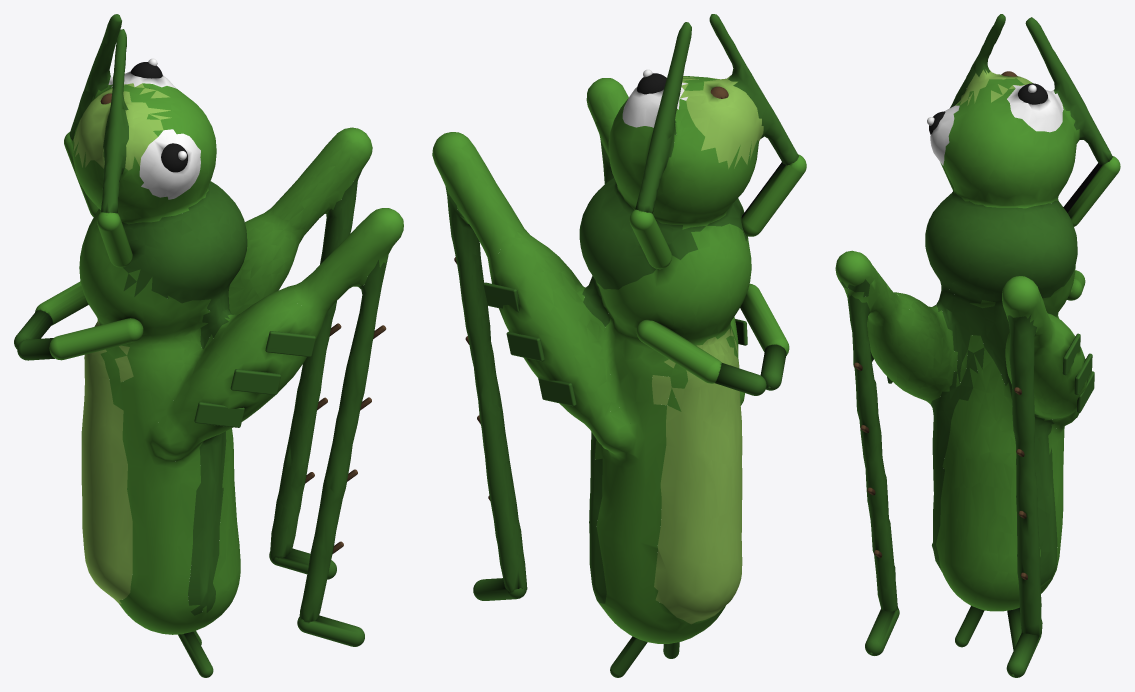
The model's file is var-ska-jag-byta.glb.
3 renders of one model, left to right at view 1: azimuth 30°, elevation 25°; view 2: azimuth 150°, elevation 25°; view 3: azimuth 270°, elevation 25°, orthographic. The views are drawn at different scales.
Visible parts, largest first — view 1: grilo__r0, grilo__r25, grilo__r28, grilo__r22, grilo__r23, grilo__r16, grilo__r17, grilo__r15, grilo__r30, grilo__r24, grilo__r14, grilo__r26; view 2: grilo__r0, grilo__r23, grilo__r28, grilo__r25, grilo__r27, grilo__r24, grilo__r26, grilo__r14, grilo__r8, grilo__r7, grilo__r9, grilo__r29; view 3: grilo__r0, grilo__r27, grilo__r22, grilo__r14, grilo__r30, grilo__r5.
Part boxes in pixels (box(x1,y1,x2,y2)): grilo__r0: box(69, 14, 403, 634); grilo__r25: box(49, 318, 143, 360); grilo__r28: box(97, 212, 132, 267); grilo__r22: box(297, 615, 364, 646); grilo__r23: box(35, 281, 88, 325); grilo__r16: box(230, 369, 280, 395); grilo__r17: box(265, 331, 315, 356); grilo__r15: box(194, 401, 244, 427); grilo__r30: box(178, 631, 213, 677); grilo__r24: box(14, 310, 52, 349); grilo__r14: box(269, 548, 336, 579); grilo__r26: box(17, 338, 54, 360); grilo__r0: box(432, 14, 798, 643); grilo__r23: box(636, 319, 721, 383); grilo__r28: box(741, 154, 806, 236); grilo__r25: box(740, 283, 789, 355); grilo__r27: box(629, 209, 671, 269); grilo__r24: box(715, 363, 766, 395); grilo__r26: box(760, 344, 786, 390); grilo__r14: box(473, 578, 526, 600); grilo__r8: box(506, 331, 544, 361); grilo__r7: box(538, 377, 576, 406); grilo__r9: box(483, 282, 519, 312); grilo__r29: box(610, 636, 647, 677); grilo__r0: box(835, 14, 1112, 635); grilo__r27: box(1063, 156, 1120, 226); grilo__r22: box(865, 608, 899, 655); grilo__r14: box(1006, 633, 1041, 677); grilo__r30: box(955, 606, 984, 647); grilo__r5: box(1018, 83, 1047, 104).
Bounding box in the file's own units: 1.01 × 1.83 × 0.7837.
